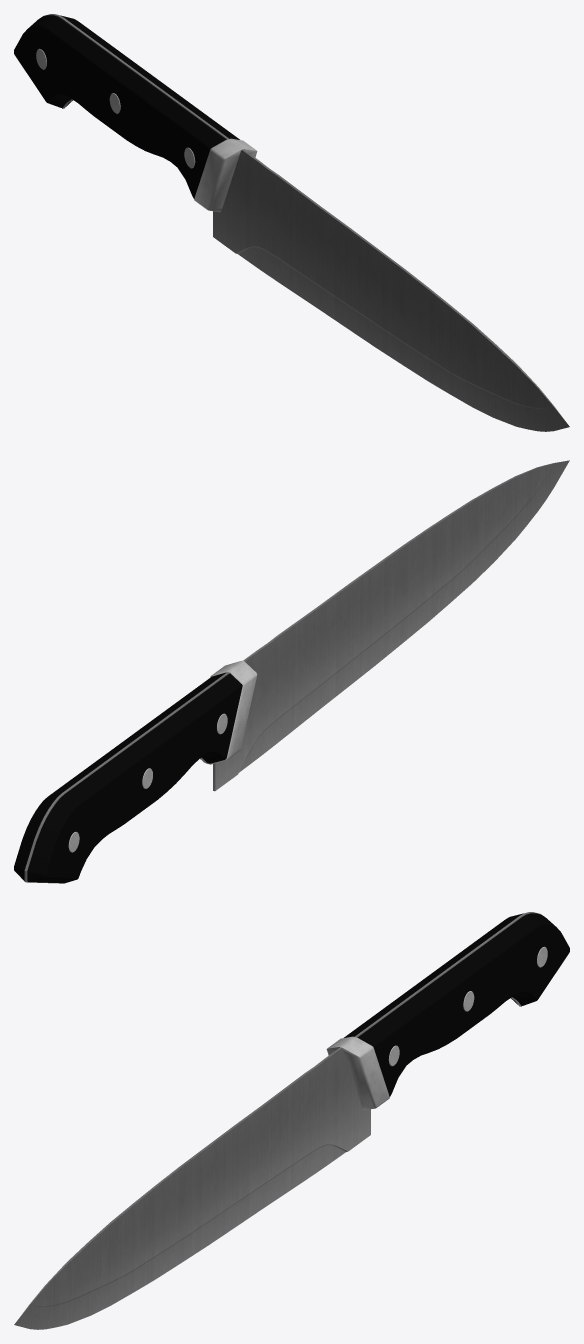
Rendered from santoku-knife.glb.
The picture shows the model from 3 angles, top to bottom: view 1: azimuth 30°, elevation 25°; view 2: azimuth 150°, elevation 25°; view 3: azimuth 330°, elevation 25°; orthographic projection.
Visible parts, largest first — view 1: Knife1_Blade_0, Knife1_Handle_1, Metal_plate_3, Knife1_Bolts_2; view 2: Knife1_Blade_0, Knife1_Handle_1, Metal_plate_3, Knife1_Bolts_2; view 3: Knife1_Blade_0, Knife1_Handle_1, Metal_plate_3, Knife1_Bolts_2.
Part boxes in pixels (bbox=[...]): Knife1_Blade_0: bbox=[39, 14, 569, 431]; Knife1_Handle_1: bbox=[14, 15, 244, 198]; Metal_plate_3: bbox=[194, 138, 257, 212]; Knife1_Bolts_2: bbox=[36, 48, 195, 168]; Knife1_Blade_0: bbox=[24, 460, 569, 883]; Knife1_Handle_1: bbox=[14, 672, 242, 883]; Metal_plate_3: bbox=[206, 660, 257, 764]; Knife1_Bolts_2: bbox=[68, 713, 227, 852]; Knife1_Blade_0: bbox=[14, 912, 544, 1329]; Knife1_Handle_1: bbox=[339, 913, 569, 1096]; Metal_plate_3: bbox=[326, 1036, 389, 1110]; Knife1_Bolts_2: bbox=[388, 946, 547, 1066].
Size of the model in its own units: 0.0119 by 0.0364 by 0.3296.
Materials: 1 (1 with a texture image).
